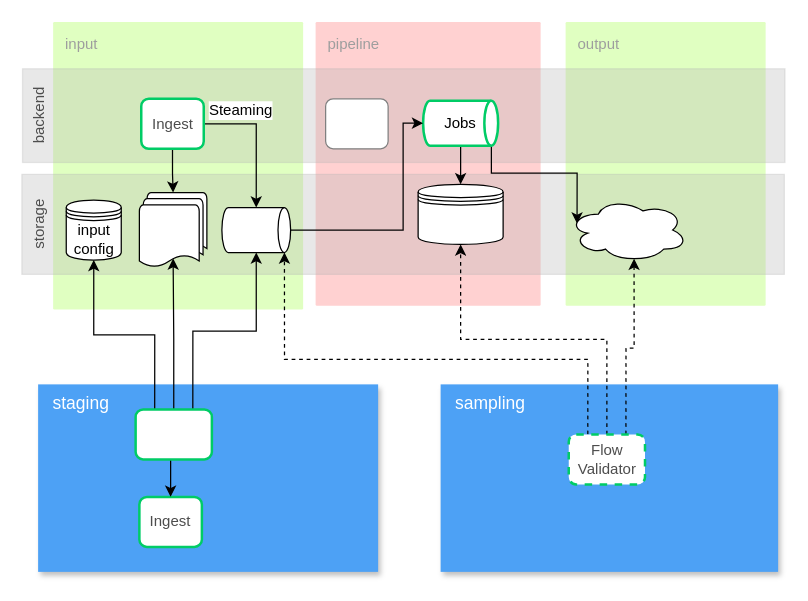
Some shapes in this 808 by 601 pixel diagram are drawn without their labels. The centre of each missing label's shape, as x and y in pixels:
"Imutable Store" goes at (x=172, y=229).
"Job Queue" goes at (x=256, y=229).
"pipeline manager" goes at (x=356, y=123).
"Scalable Stores" goes at (x=628, y=229).
"Source Simulator" goes at (x=173, y=434).
"Temp Stores" goes at (x=460, y=213).
